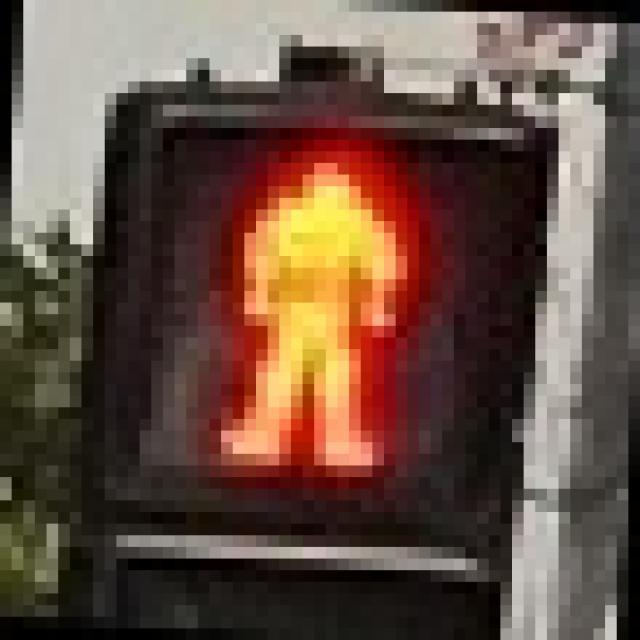red_light: (81, 70, 512, 536)
